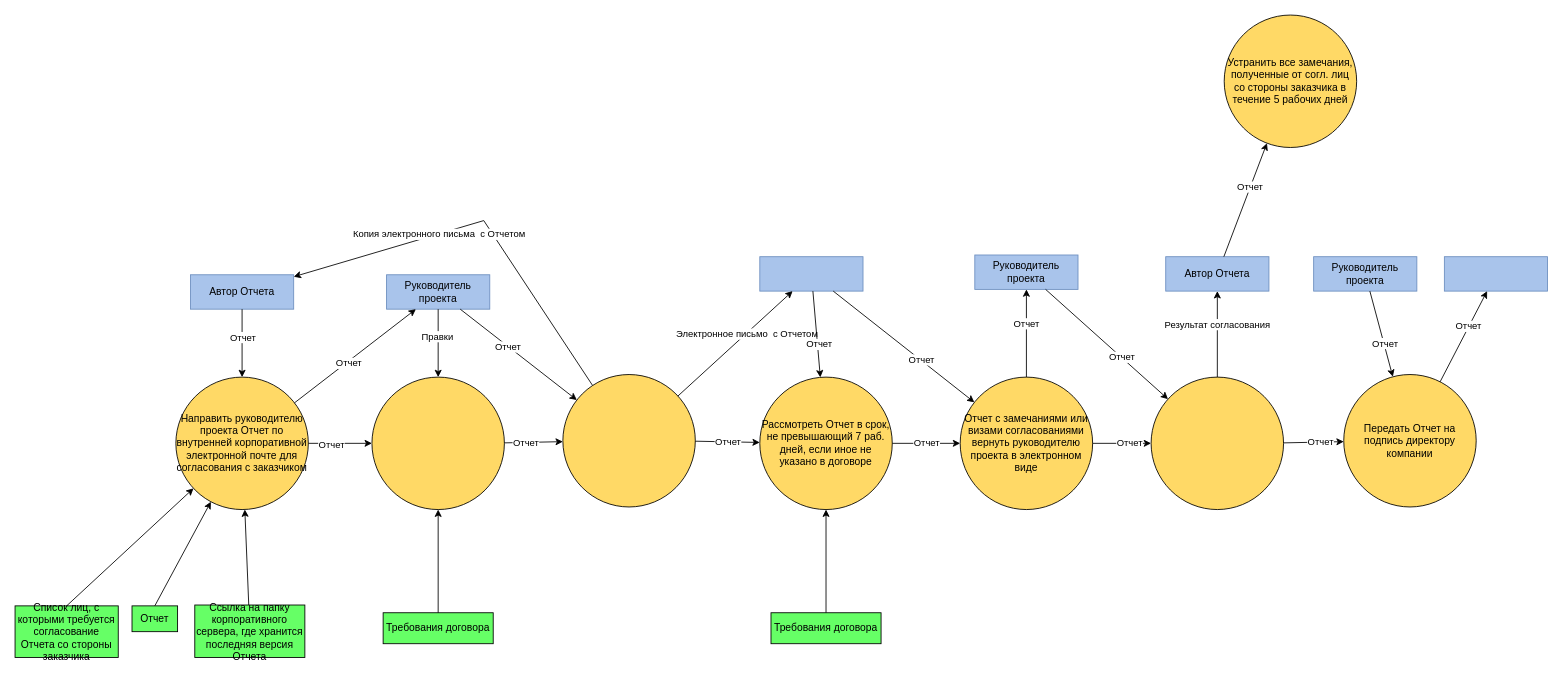
This 1563x678 diagram has some shape labels left out. Each missing label, with the centre of its shape:
Директор компании: the point at 1496,273
О результате согласования сообщить автору Отчета.: the point at 1217,443
Отправить документ в электронном виде согласующим лицам со стороны заказчика: the point at 628,440
Проверить корректность оформления Отчета в соответствии с требованиями договора: the point at 437,443
Согласующие лица со стороны заказчика: the point at 811,273
